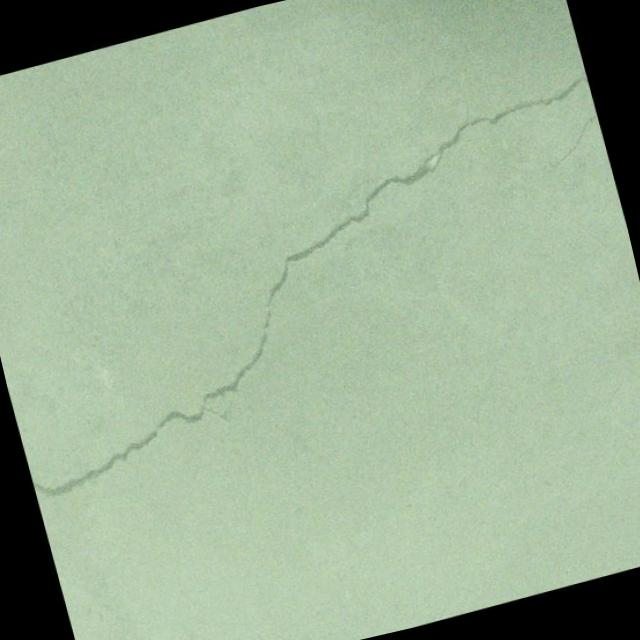crack: (0, 72, 640, 501), (502, 106, 608, 178), (522, 162, 622, 233)
